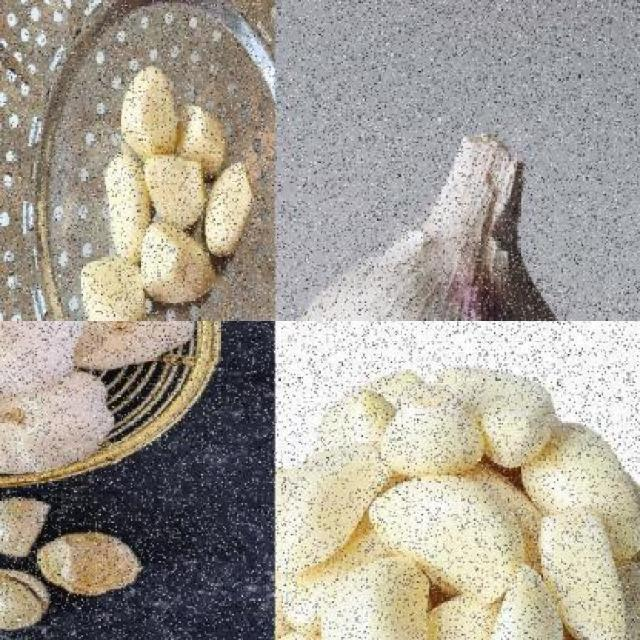garlic: (274, 362, 640, 640), (290, 133, 598, 319), (76, 63, 256, 320), (360, 476, 530, 602), (0, 494, 148, 636), (283, 443, 382, 574), (532, 507, 629, 638), (0, 368, 115, 469), (316, 553, 435, 639), (378, 402, 489, 482), (36, 320, 199, 372), (476, 371, 558, 468), (110, 65, 188, 154), (0, 320, 85, 396), (140, 151, 213, 232)
